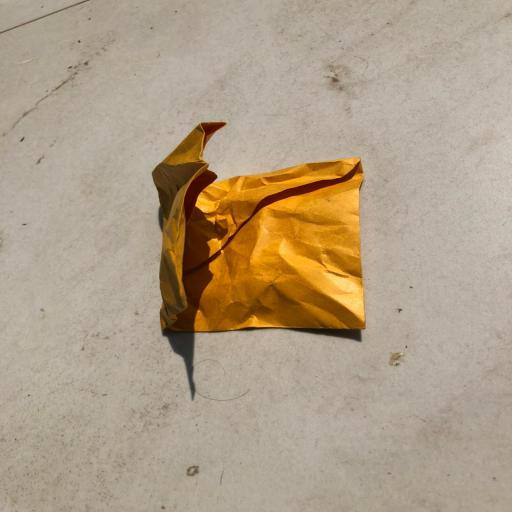waste: (138, 115, 396, 368)
